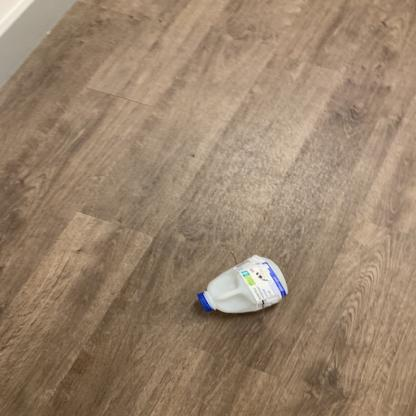trash: (197, 252, 294, 321)
